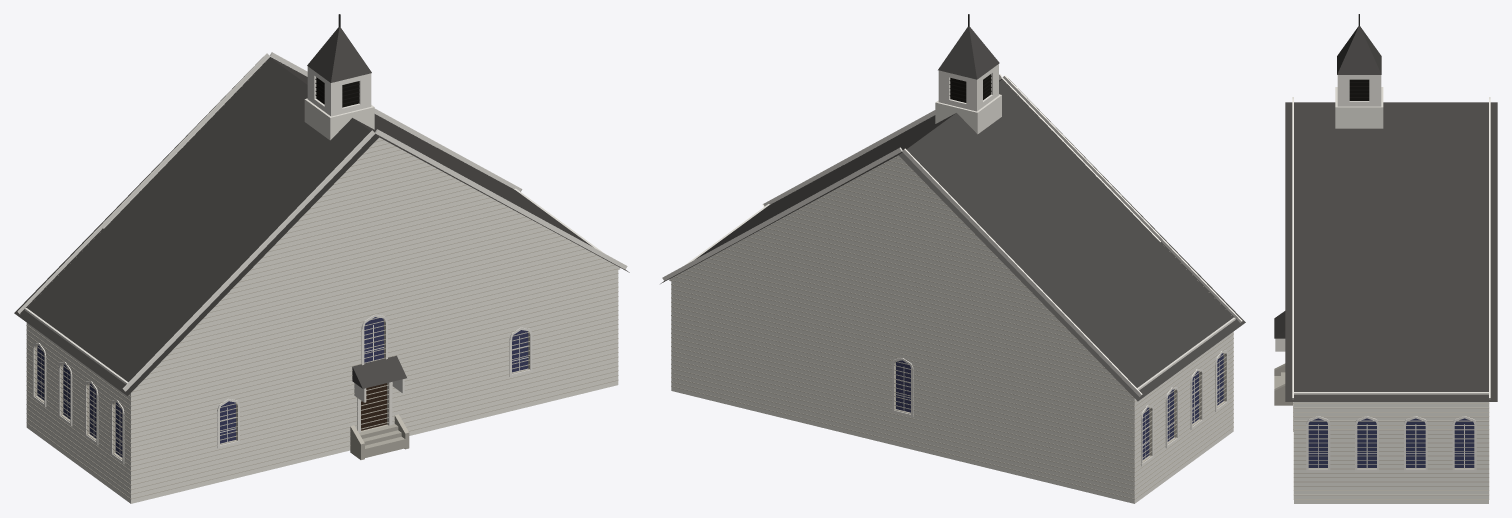
File: ch-center-star-baptist-1961.glb
3 views of the same model, side by side, from view 1: azimuth 30°, elevation 25°; view 2: azimuth 150°, elevation 25°; view 3: azimuth 270°, elevation 25° (orthographic). The views are drawn at different scales.
Visible parts, largest first — view 1: ch_brick, ch_roof, ch_brick2, ch_trim, ch_stain, ch_roof2, ch_conc, ch_door; view 2: ch_brick, ch_roof, ch_brick2, ch_trim, ch_stain, ch_roof2; view 3: ch_roof, ch_brick, ch_brick2, ch_trim, ch_stain, ch_roof2, ch_conc, ch_shadow.
Part boxes in pixels (bbox=[...]): ch_brick: bbox=[26, 98, 618, 503]; ch_roof: bbox=[14, 57, 629, 395]; ch_brick2: bbox=[26, 62, 618, 499]; ch_trim: bbox=[17, 52, 627, 464]; ch_stain: bbox=[37, 317, 528, 457]; ch_roof2: bbox=[307, 27, 406, 388]; ch_conc: bbox=[350, 414, 409, 459]; ch_door: bbox=[361, 383, 386, 430]; ch_brick: bbox=[671, 94, 1233, 503]; ch_roof: bbox=[660, 78, 1245, 401]; ch_brick2: bbox=[671, 83, 1233, 499]; ch_trim: bbox=[662, 64, 1242, 466]; ch_stain: bbox=[896, 353, 1223, 459]; ch_roof2: bbox=[938, 26, 999, 79]; ch_roof: bbox=[1285, 102, 1497, 401]; ch_brick: bbox=[1294, 87, 1488, 503]; ch_brick2: bbox=[1293, 402, 1489, 499]; ch_trim: bbox=[1275, 75, 1490, 471]; ch_stain: bbox=[1308, 418, 1474, 467]; ch_roof2: bbox=[1274, 26, 1381, 338]; ch_conc: bbox=[1274, 363, 1292, 405]; ch_shadow: bbox=[1349, 79, 1369, 100].
Size of the model in its own units: 24.98 by 19.25 by 10.24.
